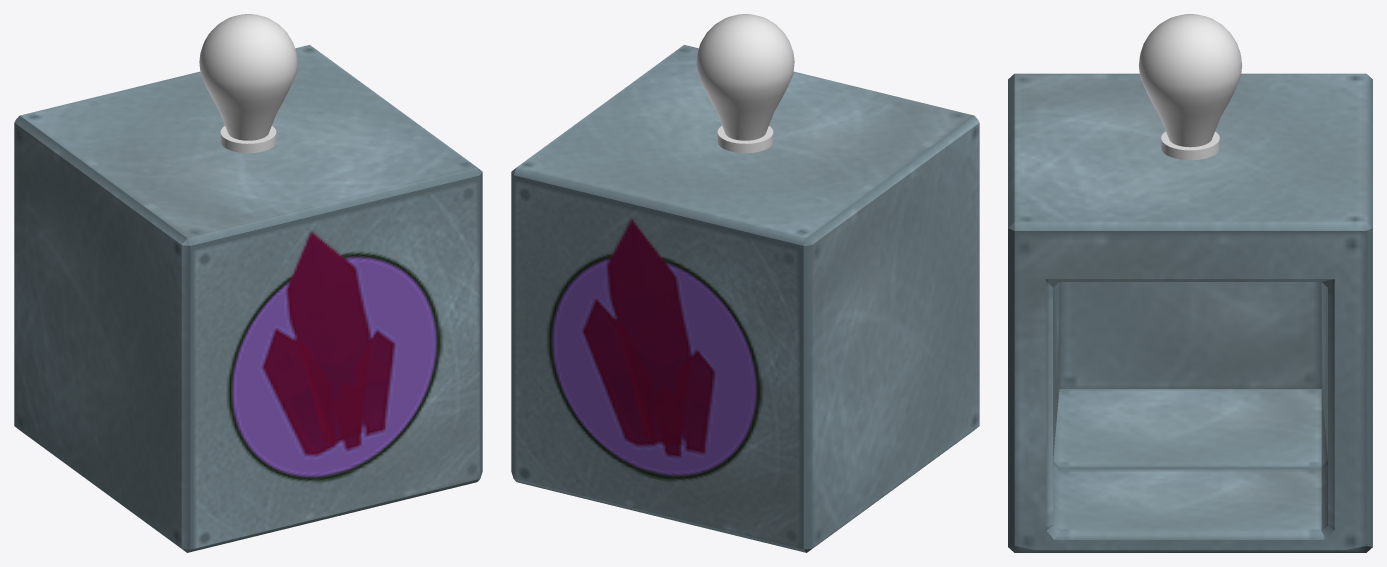
The model's file is ConveyourBlock.fbx.
The picture shows the model from 3 angles, left to right: view 1: azimuth 30°, elevation 25°; view 2: azimuth 150°, elevation 25°; view 3: azimuth 270°, elevation 25°; orthographic projection. The views are drawn at different scales.
Visible parts, largest first — view 1: Cube, Sphere, Cylinder; view 2: Cube, Sphere, Cylinder; view 3: Cube, Sphere, Cylinder.
Part boxes in pixels (x1=…): Cube: x1=14, y1=45, x2=482, y2=552; Sphere: x1=199, y1=14, x2=297, y2=140; Cylinder: x1=220, y1=126, x2=276, y2=153; Cube: x1=511, y1=45, x2=979, y2=552; Sphere: x1=696, y1=14, x2=794, y2=140; Cylinder: x1=717, y1=126, x2=773, y2=153; Cube: x1=1008, y1=73, x2=1372, y2=552; Sphere: x1=1138, y1=14, x2=1242, y2=147; Cylinder: x1=1161, y1=131, x2=1219, y2=160.
Size of the model in its own units: 200 by 278 by 200.
Materials: 1 (1 with a texture image).
